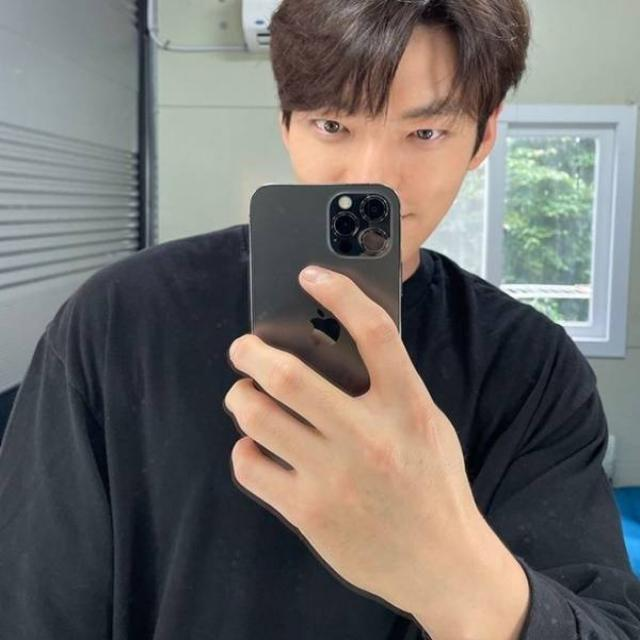phone: (248, 184, 402, 486)
